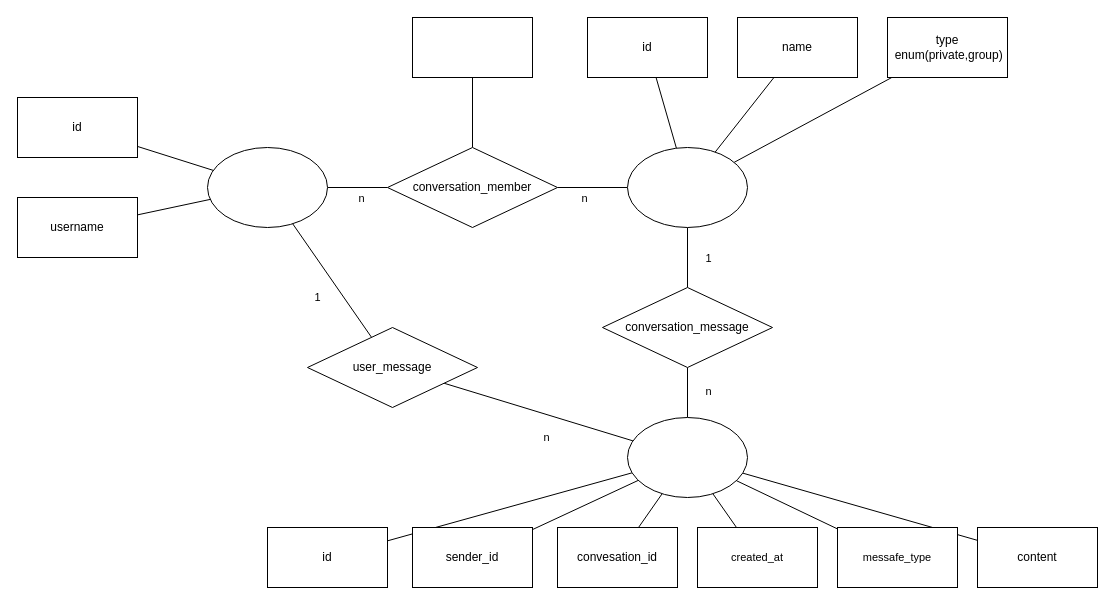
Some shapes in this 1115 by 605 pixel diagram are drawn without their labels. The centre of each missing label's shape, as x and y in pixels:
"conversation" belongs at [687,187].
"message" belongs at [687,457].
"role" belongs at [472,47].
"users" belongs at [267,187].
